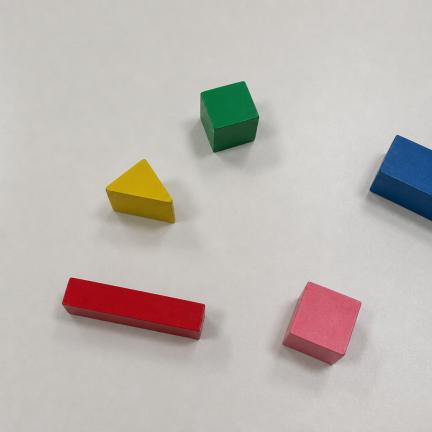BuildingBlocks: (63, 279, 205, 339), (283, 282, 361, 364), (370, 136, 431, 219), (106, 160, 175, 222), (200, 81, 258, 152)
